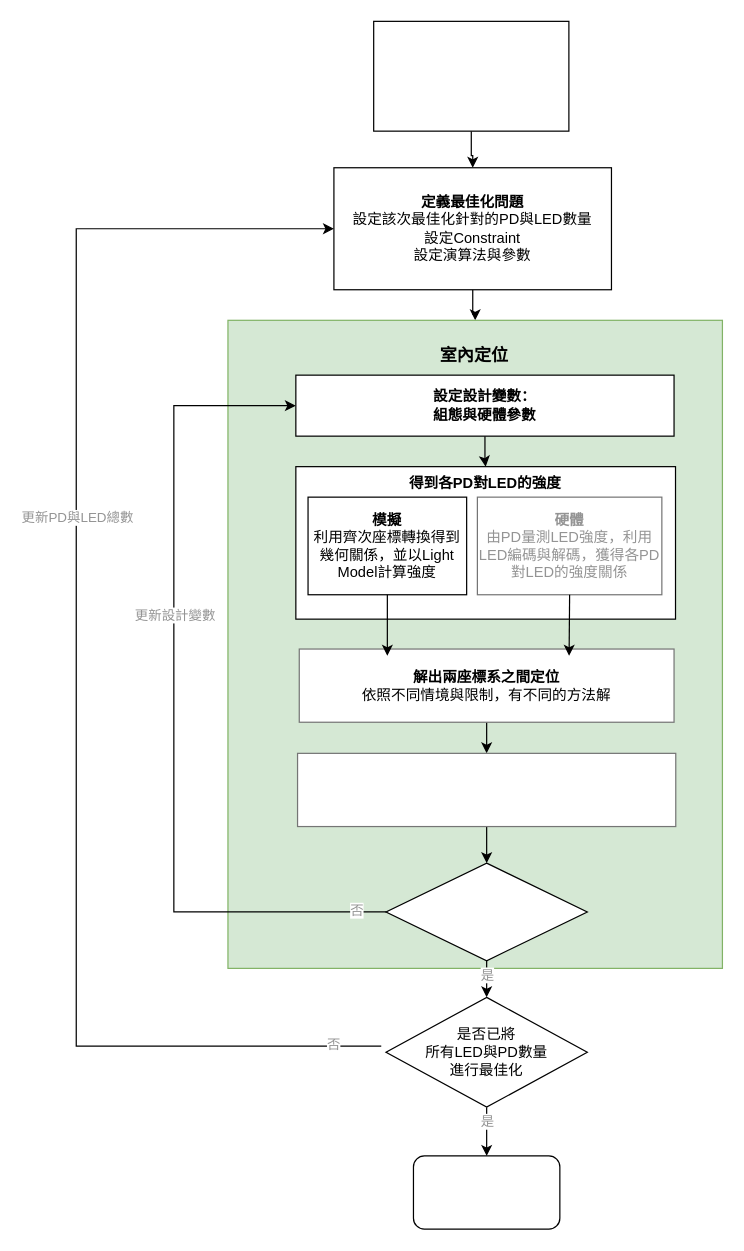
The diagram is 744 pixels wide and 1251 high, and some of its shapes have lost their labels. The centre of each missing label's shape, as x and y in pixels:
"完成" belongs at (486,1192).
"定義情境 給定情境(Scenario) 給定ROI 產生測試點 給定LED與PD數量上下界" belongs at (470,75).
"演算法終止條件達成" belongs at (486,911).
"計算平均誤差(目標函數)" belongs at (486,789).
